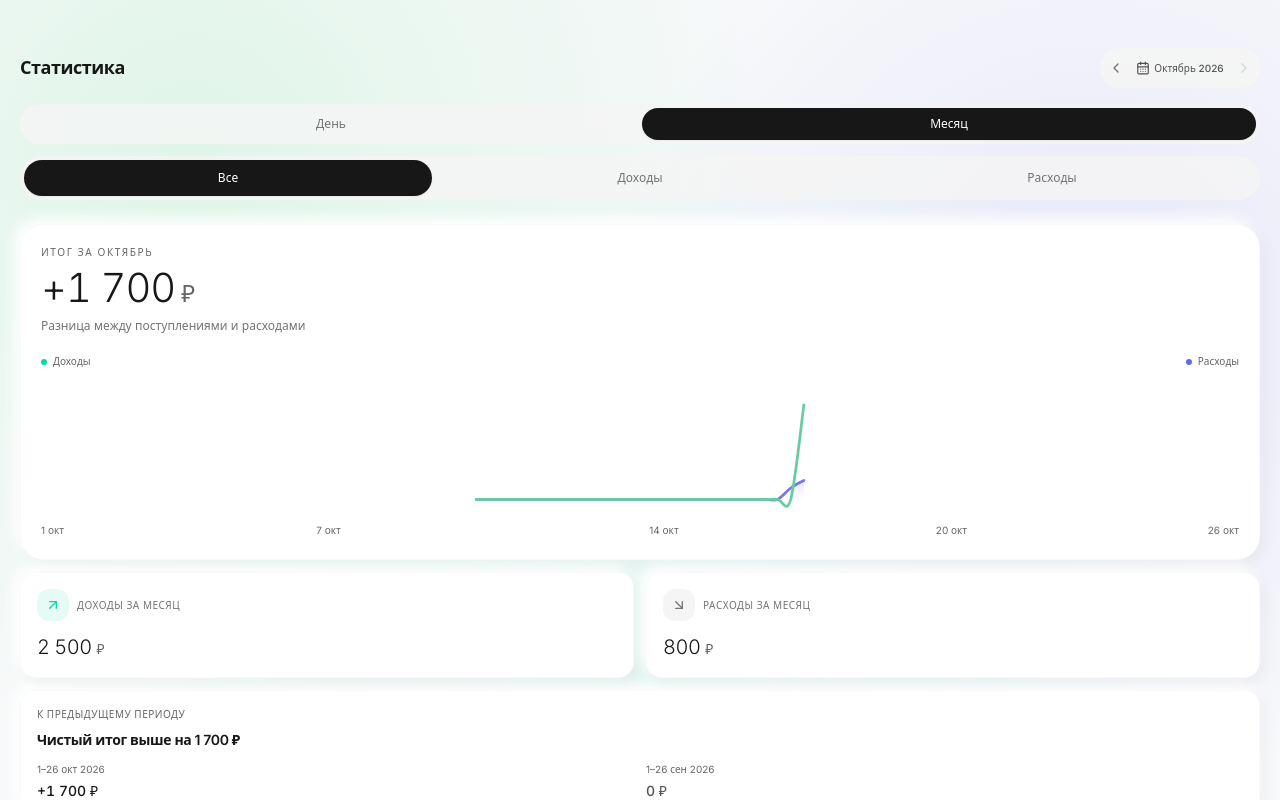
it: StatisticsScreen daily and monthly views › filters the selected day and excludes internal transfers
The image size is (1280, 800).
Click the button "День" at (331, 124), box [24,108,638,140]
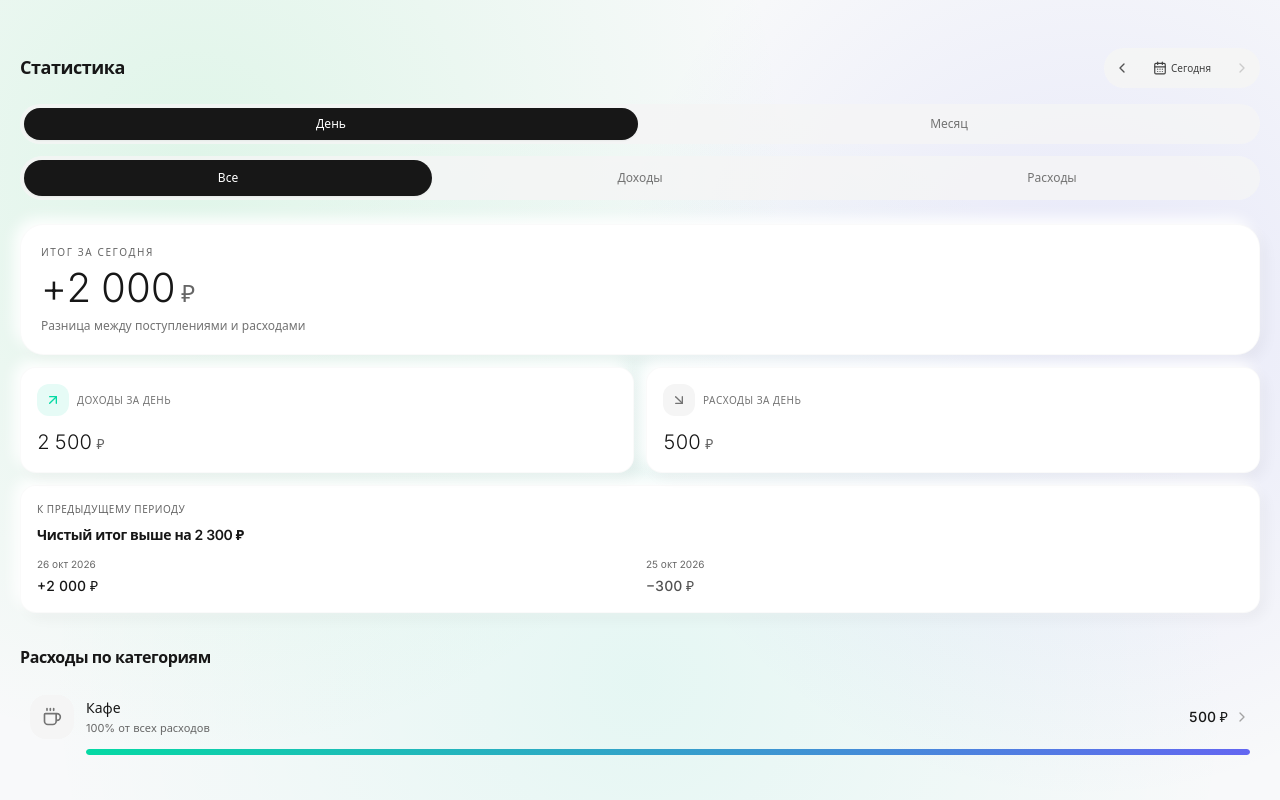
Click the button "Расходы" at (1052, 178), box [848,160,1256,196]
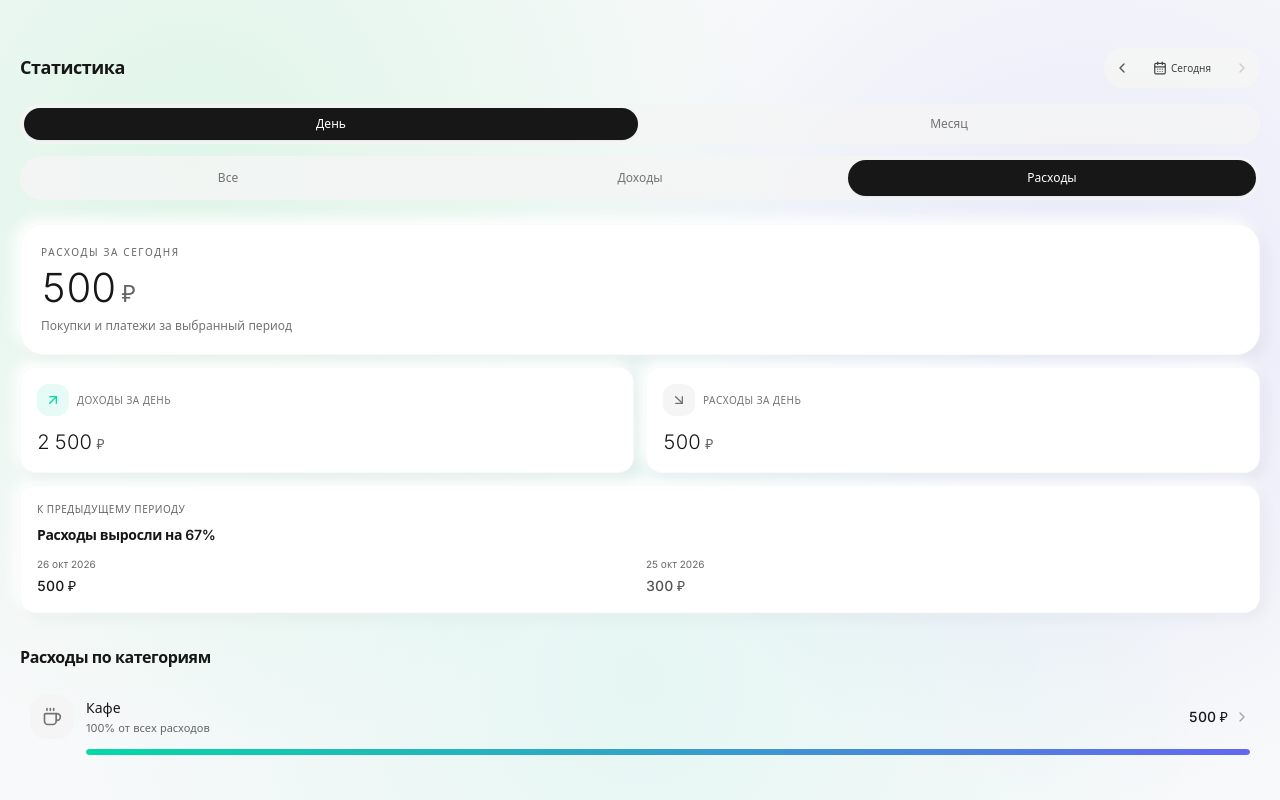
expect the text "Кафе" is shown: met, box [86,699,121,716]
expect the text "Расходы за день" is shown: met, box [703,392,801,408]
expect the text "Расходы за сегодня" is shown: met, box [41,246,180,258]
